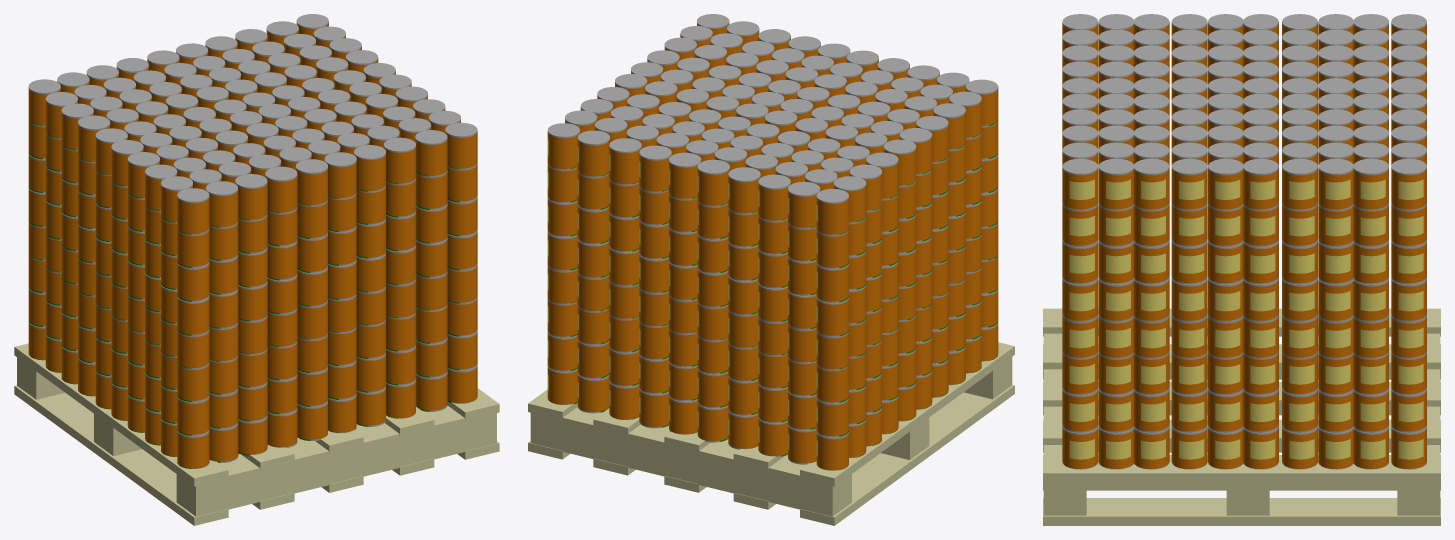
Rendered from Red Can Skid.fbx.
The picture shows the model from 3 angles, left to right: view 1: azimuth 30°, elevation 25°; view 2: azimuth 150°, elevation 25°; view 3: azimuth 270°, elevation 25°; orthographic projection. The views are drawn at different scales.
Visible parts, largest first — view 1: palette_full4; view 2: palette_full4; view 3: palette_full4.
Boxes of the visible parts, <box> form: palette_full4: <box>14,14,499,525</box>; palette_full4: <box>528,14,1014,525</box>; palette_full4: <box>1043,14,1440,525</box>.
Size of the model in its own units: 1.05 by 1.03 by 1.07.
